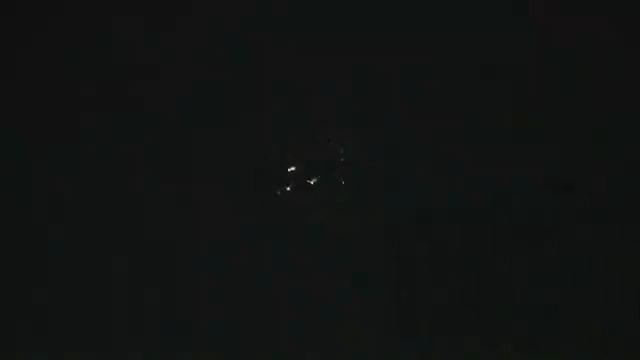Plane: (259, 155, 330, 203)
